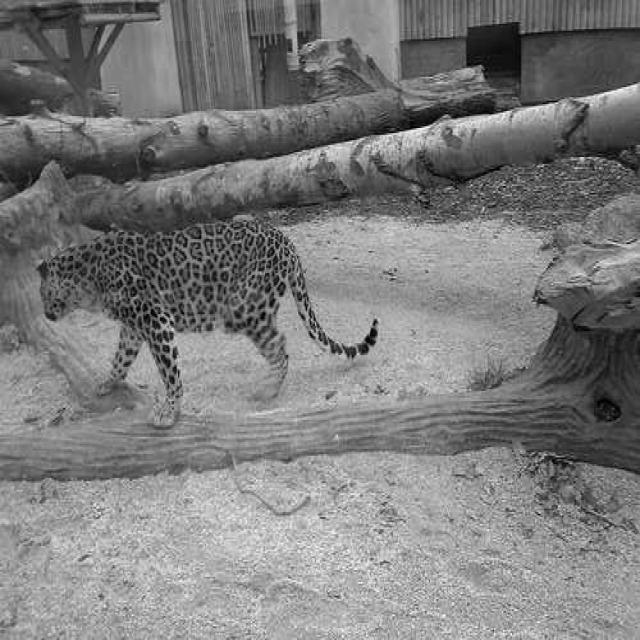Leopard: (35, 215, 380, 428)
